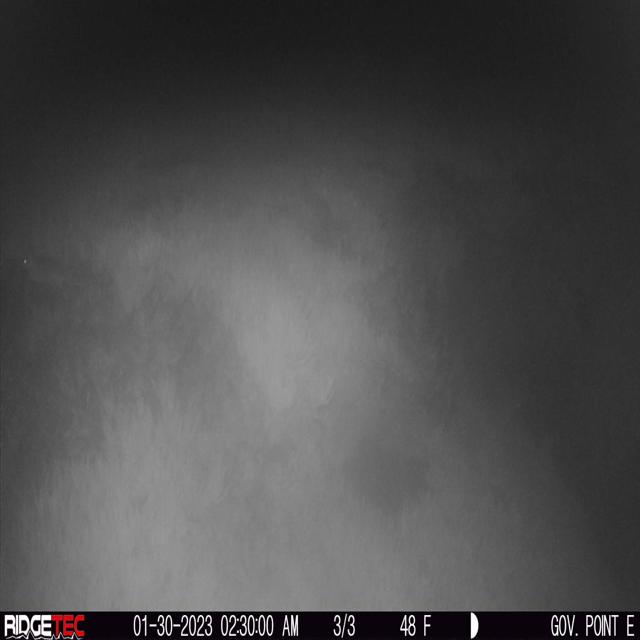rodent: (17, 251, 69, 289)
